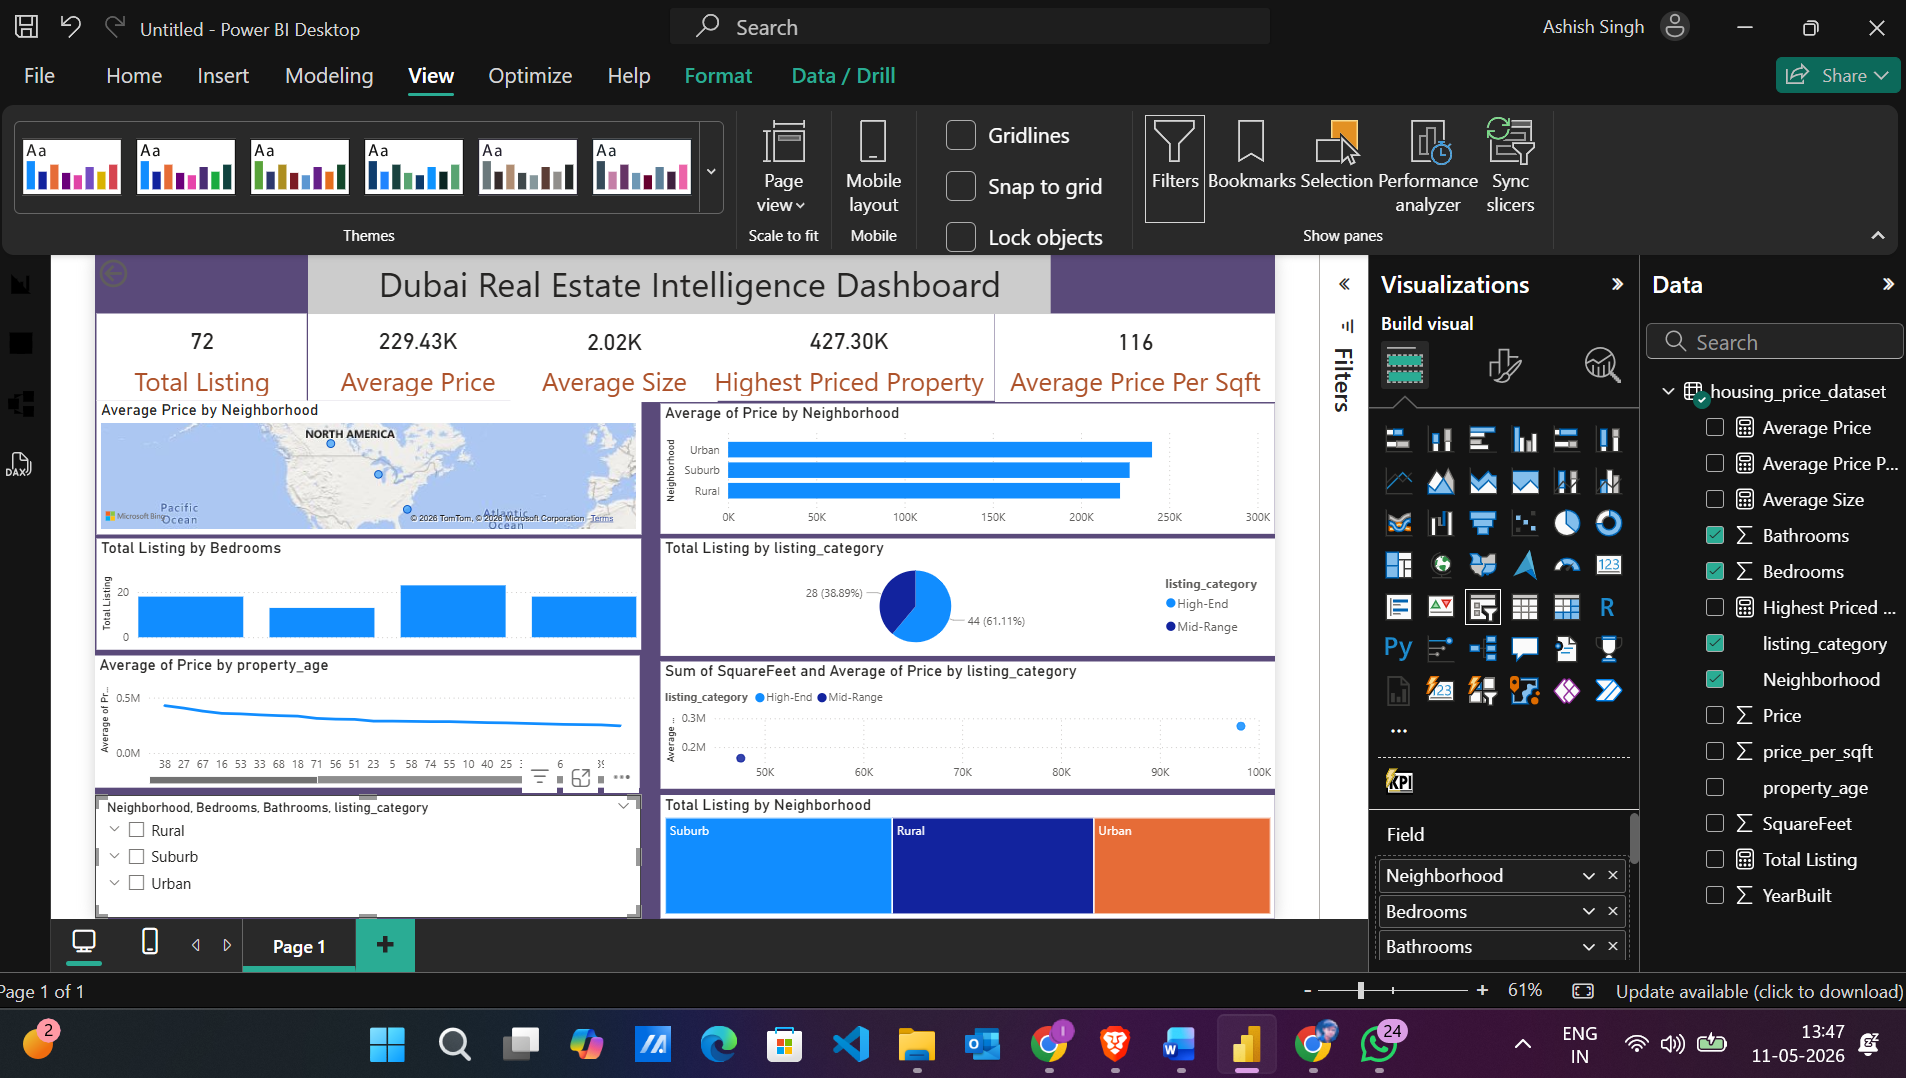

The dashboard page shown, as its layout file describes it:
{"tool":"powerbi","page":{"name":"Page 1","canvas":[1280,720],"ordinal":0},"visuals":[{"type":"card","fields":{"Values":["housing_price_dataset.Total Listing"]},"box":[1.9,64.2,228.3,94.3],"z":0},{"type":"card","fields":{"Values":["housing_price_dataset.Average Size"]},"box":[450.9,64.2,224.5,96.2],"z":1000},{"type":"card","fields":{"Values":["housing_price_dataset.Average Price"]},"box":[230.2,64.2,237.7,94.3],"z":2000},{"type":"card","fields":{"Values":["housing_price_dataset.Highest Priced Property"]},"box":[658.5,64.2,317,94.3],"z":3000},{"type":"card","fields":{"Values":["housing_price_dataset.Average Price Per Sqft"]},"box":[975.5,64.2,303.8,96.2],"z":4000},{"type":"pieChart","fields":{"Category":["housing_price_dataset.listing_category"],"Y":["housing_price_dataset.Total Listing"]},"box":[612.7,307.3,667.3,127.3],"z":5000},{"type":"columnChart","fields":{"Y":["housing_price_dataset.Total Listing"],"Category":["housing_price_dataset.Bedrooms"]},"box":[1.9,307.5,590.6,120.8],"z":6000},{"type":"lineChart","fields":{"Category":["housing_price_dataset.property_age"],"Y":["Avg(housing_price_dataset.Price)"]},"box":[0,434,590.6,143.4],"z":7000},{"type":"clusteredBarChart","fields":{"Category":["housing_price_dataset.Neighborhood"],"Y":["Avg(housing_price_dataset.Price)"]},"box":[613.2,160.4,666,141.5],"z":8000},{"type":"actionButton","box":[0,0,100,40],"z":9000},{"type":"slicer","fields":{"Values":["housing_price_dataset.Neighborhood","housing_price_dataset.Bedrooms","housing_price_dataset.Bathrooms","housing_price_dataset.listing_category"]},"box":[0,585.6,592.1,133.4],"z":10000},{"type":"treemap","fields":{"Values":["housing_price_dataset.Total Listing"],"Group":["housing_price_dataset.Neighborhood"]},"box":[613.2,584.9,666,134],"z":11000},{"type":"map","fields":{"Category":["housing_price_dataset.Neighborhood"],"Size":["housing_price_dataset.Average Price"]},"box":[1.6,157.8,590.4,144.8],"z":12000},{"type":"scatterChart","fields":{"Series":["housing_price_dataset.listing_category"],"X":["Sum(housing_price_dataset.SquareFeet)"],"Y":["Avg(housing_price_dataset.Price)"]},"box":[612.7,440,667.3,138.2],"z":13000},{"type":"textbox","box":[230.2,0,805.7,64.2],"z":14000}]}

Visuals, with their boxes on the page's 1280x720 design canvas (x1, y1, x2, y2). These are canvas units, not pixel positions in the 1906x1078 screenshot, which may show the page scaled, cropped or inside an application window:
card - housing_price_dataset.Total Listing: {"x1": 2, "y1": 64, "x2": 230, "y2": 158}
card - housing_price_dataset.Average Size: {"x1": 451, "y1": 64, "x2": 675, "y2": 160}
card - housing_price_dataset.Average Price: {"x1": 230, "y1": 64, "x2": 468, "y2": 158}
card - housing_price_dataset.Highest Priced Property: {"x1": 658, "y1": 64, "x2": 976, "y2": 158}
card - housing_price_dataset.Average Price Per Sqft: {"x1": 976, "y1": 64, "x2": 1279, "y2": 160}
pieChart - housing_price_dataset.listing_category x housing_price_dataset.Total Listing: {"x1": 613, "y1": 307, "x2": 1280, "y2": 435}
columnChart - housing_price_dataset.Total Listing x housing_price_dataset.Bedrooms: {"x1": 2, "y1": 308, "x2": 592, "y2": 428}
lineChart - housing_price_dataset.property_age x Avg(housing_price_dataset.Price): {"x1": 0, "y1": 434, "x2": 591, "y2": 577}
clusteredBarChart - housing_price_dataset.Neighborhood x Avg(housing_price_dataset.Price): {"x1": 613, "y1": 160, "x2": 1279, "y2": 302}
actionButton: {"x1": 0, "y1": 0, "x2": 100, "y2": 40}
slicer - housing_price_dataset.Neighborhood x housing_price_dataset.Bedrooms: {"x1": 0, "y1": 586, "x2": 592, "y2": 719}
treemap - housing_price_dataset.Total Listing x housing_price_dataset.Neighborhood: {"x1": 613, "y1": 585, "x2": 1279, "y2": 719}
map - housing_price_dataset.Neighborhood x housing_price_dataset.Average Price: {"x1": 2, "y1": 158, "x2": 592, "y2": 303}
scatterChart - housing_price_dataset.listing_category x Sum(housing_price_dataset.SquareFeet): {"x1": 613, "y1": 440, "x2": 1280, "y2": 578}
textbox: {"x1": 230, "y1": 0, "x2": 1036, "y2": 64}
